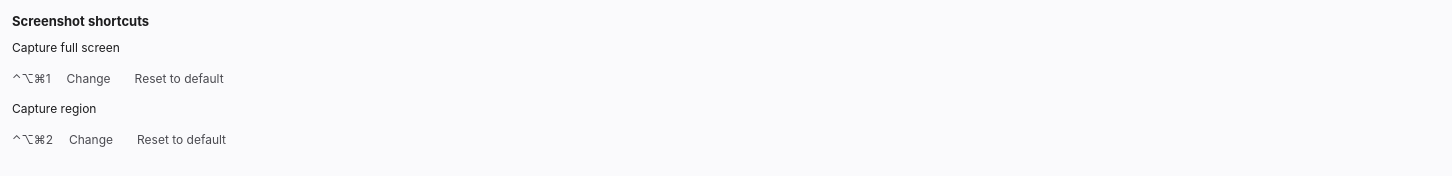
it: the screenshot shortcuts section › pauses the global shortcuts and waits for a new combination when Change is pressed
Step 1. Click the button with aria-label "Change Capture region shortcut, currently ⌃⌥⌘2" → (91, 140), box [61,126,121,154]
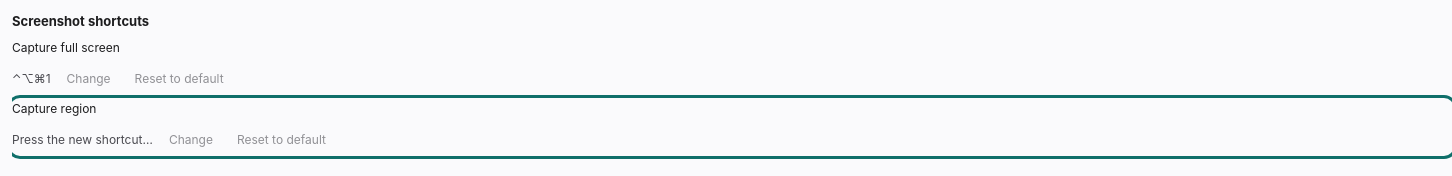
Result: the text "Press the new shortcut…" is shown at [12,131,153,148]
Result: the text "⌃⌥⌘2" is gone
